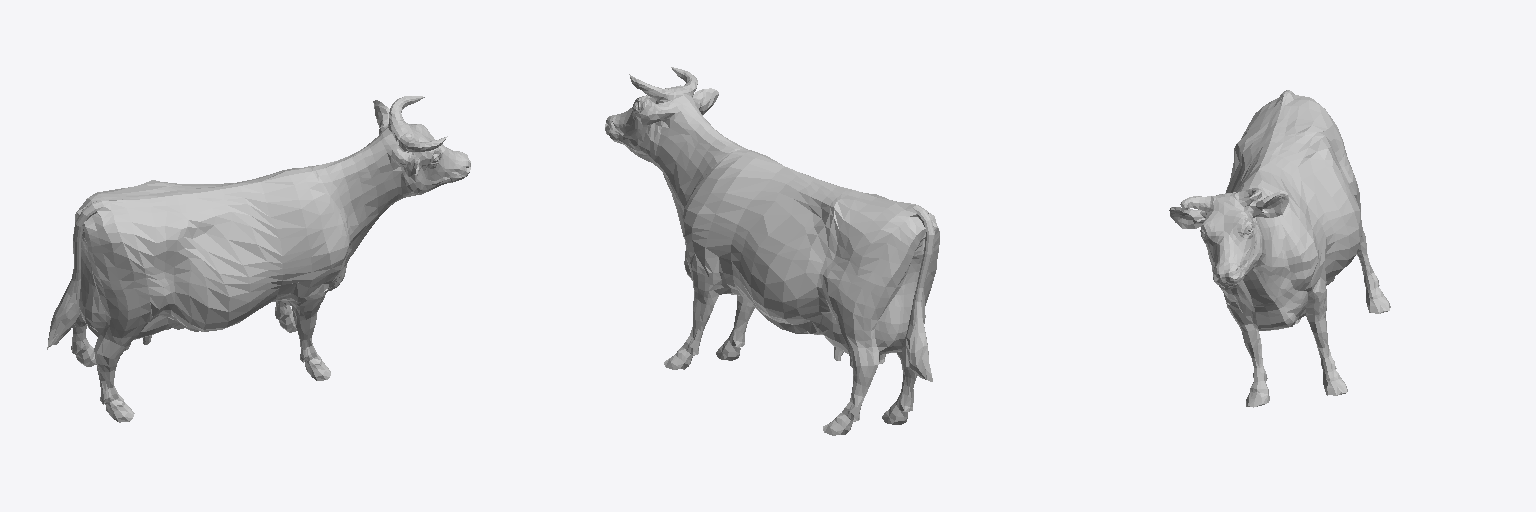
File: cow.obj
3 renders of one model, left to right at view 1: azimuth 30°, elevation 25°; view 2: azimuth 150°, elevation 25°; view 3: azimuth 270°, elevation 25°, orthographic.
Visible parts, largest first — view 1: mesh; view 2: mesh; view 3: mesh.
Part boxes in pixels (x1,y1,x2,y2): mesh: (47,96,470,422); mesh: (605,67,939,435); mesh: (1169,90,1390,407).
Bounding box in the file's own units: 101 × 69.13 × 51.94.